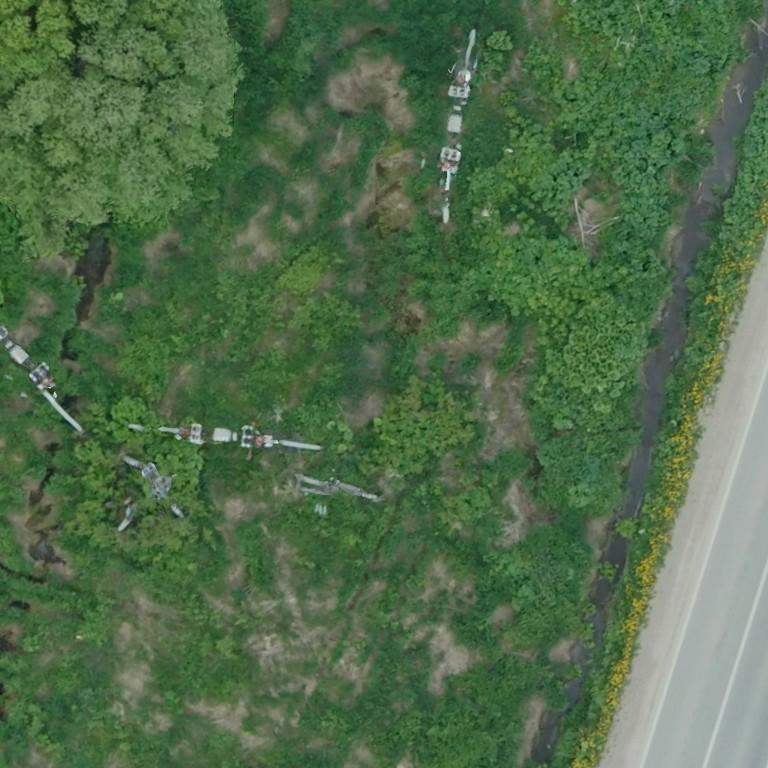hogweed: (524, 47, 689, 305), (723, 79, 767, 239), (535, 155, 589, 210), (580, 0, 629, 34), (677, 53, 719, 80)
